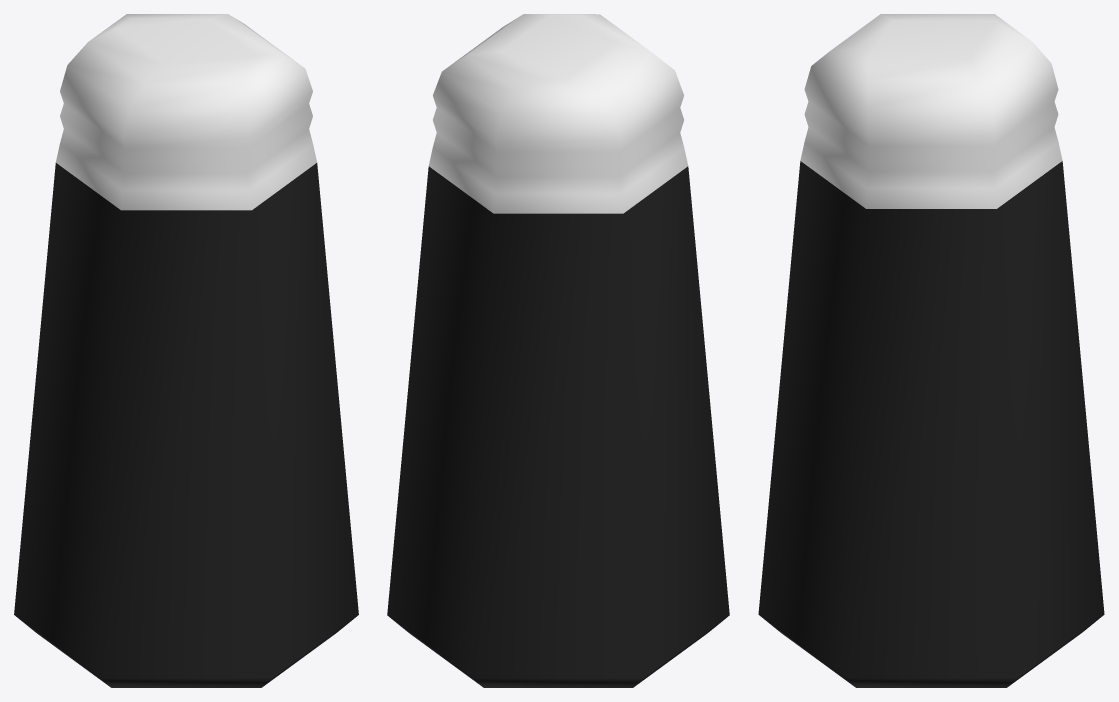
The model's file is ShakerPepper.glb.
The picture shows the model from 3 angles, left to right: view 1: azimuth 30°, elevation 25°; view 2: azimuth 150°, elevation 25°; view 3: azimuth 270°, elevation 25°; orthographic projection.
Visible parts, largest first — view 1: ShakerPepper; view 2: ShakerPepper; view 3: ShakerPepper.
Part boxes in pixels (x1,y1,x2,y2): ShakerPepper: [14, 14, 358, 687]; ShakerPepper: [387, 14, 729, 687]; ShakerPepper: [758, 14, 1104, 687].
Bounding box in the file's own units: 0.0666 × 0.1453 × 0.0769.
Materials: 2 (2 with a texture image).
